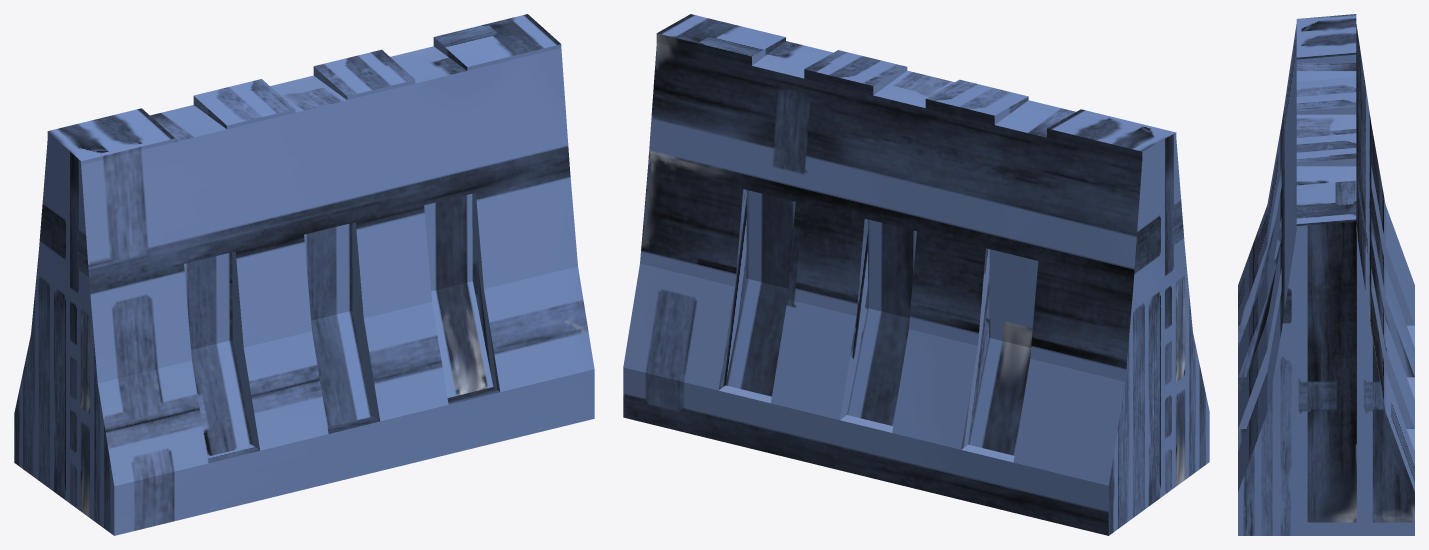
Rendered from barrage, 3.fbx.
The picture shows the model from 3 angles, left to right: view 1: azimuth 30°, elevation 25°; view 2: azimuth 150°, elevation 25°; view 3: azimuth 270°, elevation 25°; orthographic projection. The views are drawn at different scales.
Parts seen in each view (by area): view 1: Cube; view 2: Cube; view 3: Cube.
Part boxes in pixels (x1,y1,x2,y2): Cube: (14,14,594,535); Cube: (623,14,1209,535); Cube: (1238,14,1414,535).
Bounding box in the file's own units: 70.81 × 50.15 × 25.51.
1 material, 1 textured.
